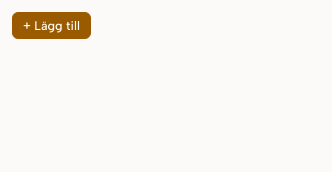
Scenario: StatusButton — the menu answers a keyboard (A11Y-2) › says it is open, closes on Escape and hands focus back to the button
This screenshot has width=332, height=172.
Click the button "+ Lägg till".
click(51, 26)  # box [12,12,91,39]
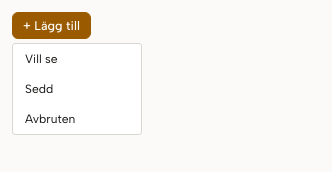
Expected: the button "Vill se" is shown, [13,44,141,74]
Press Escape
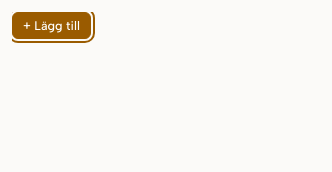
Expected: the button "Vill se" is gone
